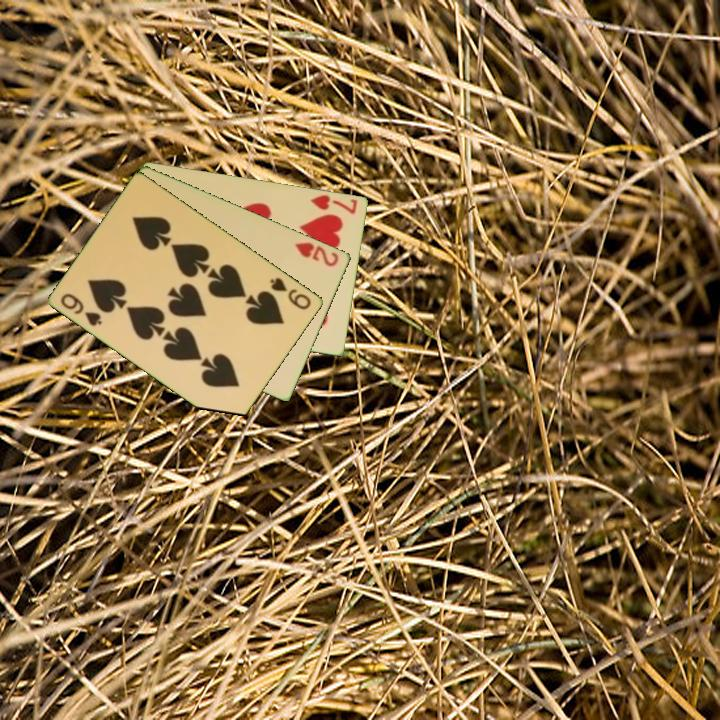2h: (292, 238, 342, 269)
7h: (307, 191, 360, 217)
9s: (57, 289, 105, 329), (267, 274, 314, 313)
